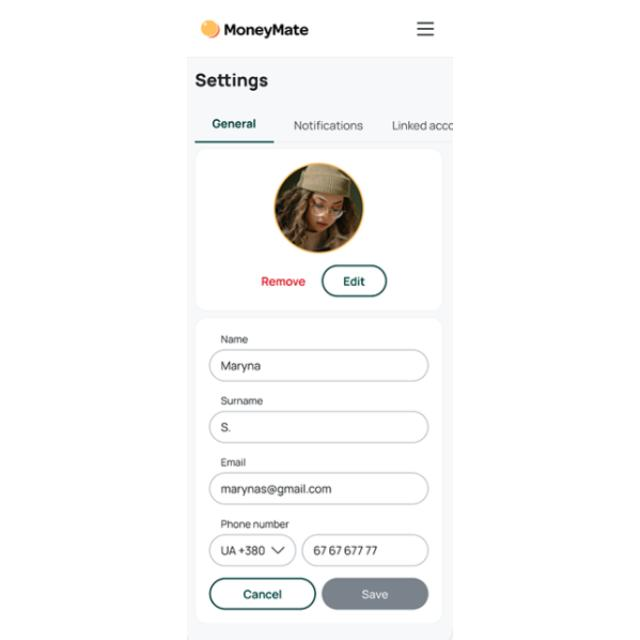QLabel: (196, 72, 268, 91), (224, 23, 308, 39), (391, 120, 453, 134), (294, 120, 362, 132), (220, 519, 290, 529), (262, 276, 304, 288), (244, 589, 282, 601), (220, 396, 264, 406), (212, 119, 255, 129), (220, 335, 248, 345), (220, 457, 247, 467), (362, 590, 388, 600), (342, 277, 366, 287)
QPhoneInput: (209, 534, 429, 566)
VAppBar: (187, 0, 453, 58)
VAvatar: (274, 162, 364, 254)
VBtn: (210, 578, 316, 610), (323, 578, 429, 610), (322, 264, 386, 298)
VCard: (194, 318, 446, 624), (194, 146, 444, 312)
VIcon: (200, 20, 220, 38), (416, 20, 436, 38)
VTabs: (187, 110, 453, 640)
VTextField: (208, 472, 430, 506), (209, 349, 429, 383), (209, 410, 429, 444)
